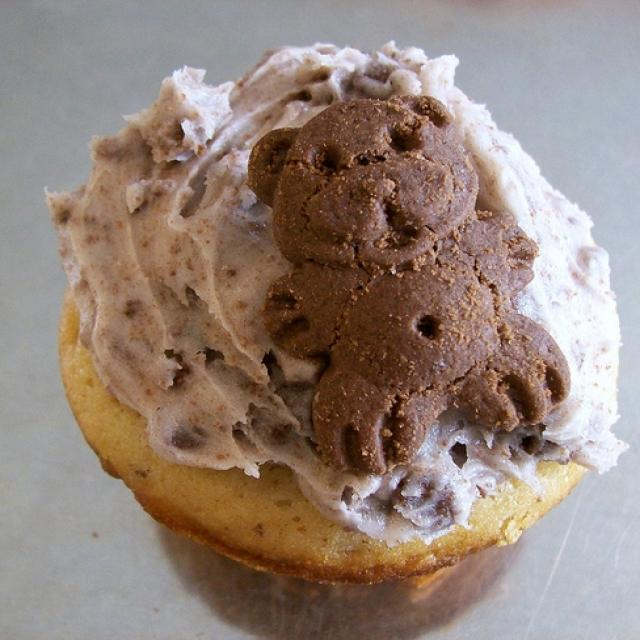炸货点心: (28, 34, 630, 634)
面包点心: (28, 34, 630, 634)
